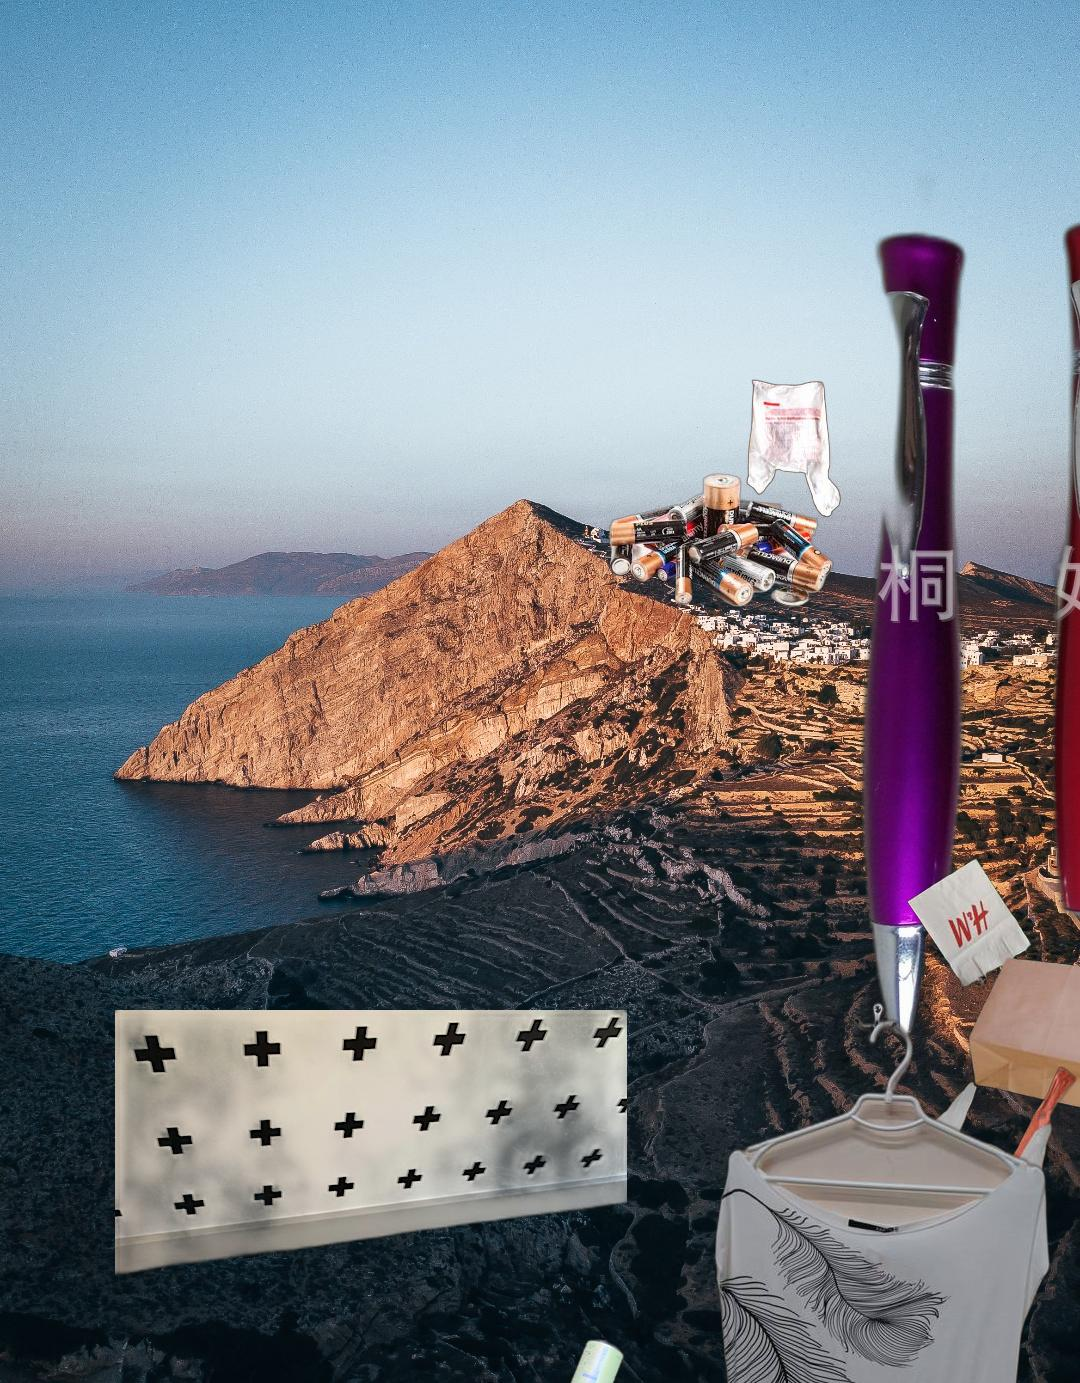battery: (605, 471, 836, 610)
clothes: (711, 997, 1053, 1383)
metal-cans: (564, 1332, 628, 1383)
paper-bag: (904, 857, 1080, 1120)
penholder: (853, 143, 1080, 1056)
plastic-bag: (886, 1061, 1080, 1286), (744, 378, 842, 520)
plastic-bottles: (115, 1010, 626, 1383)
